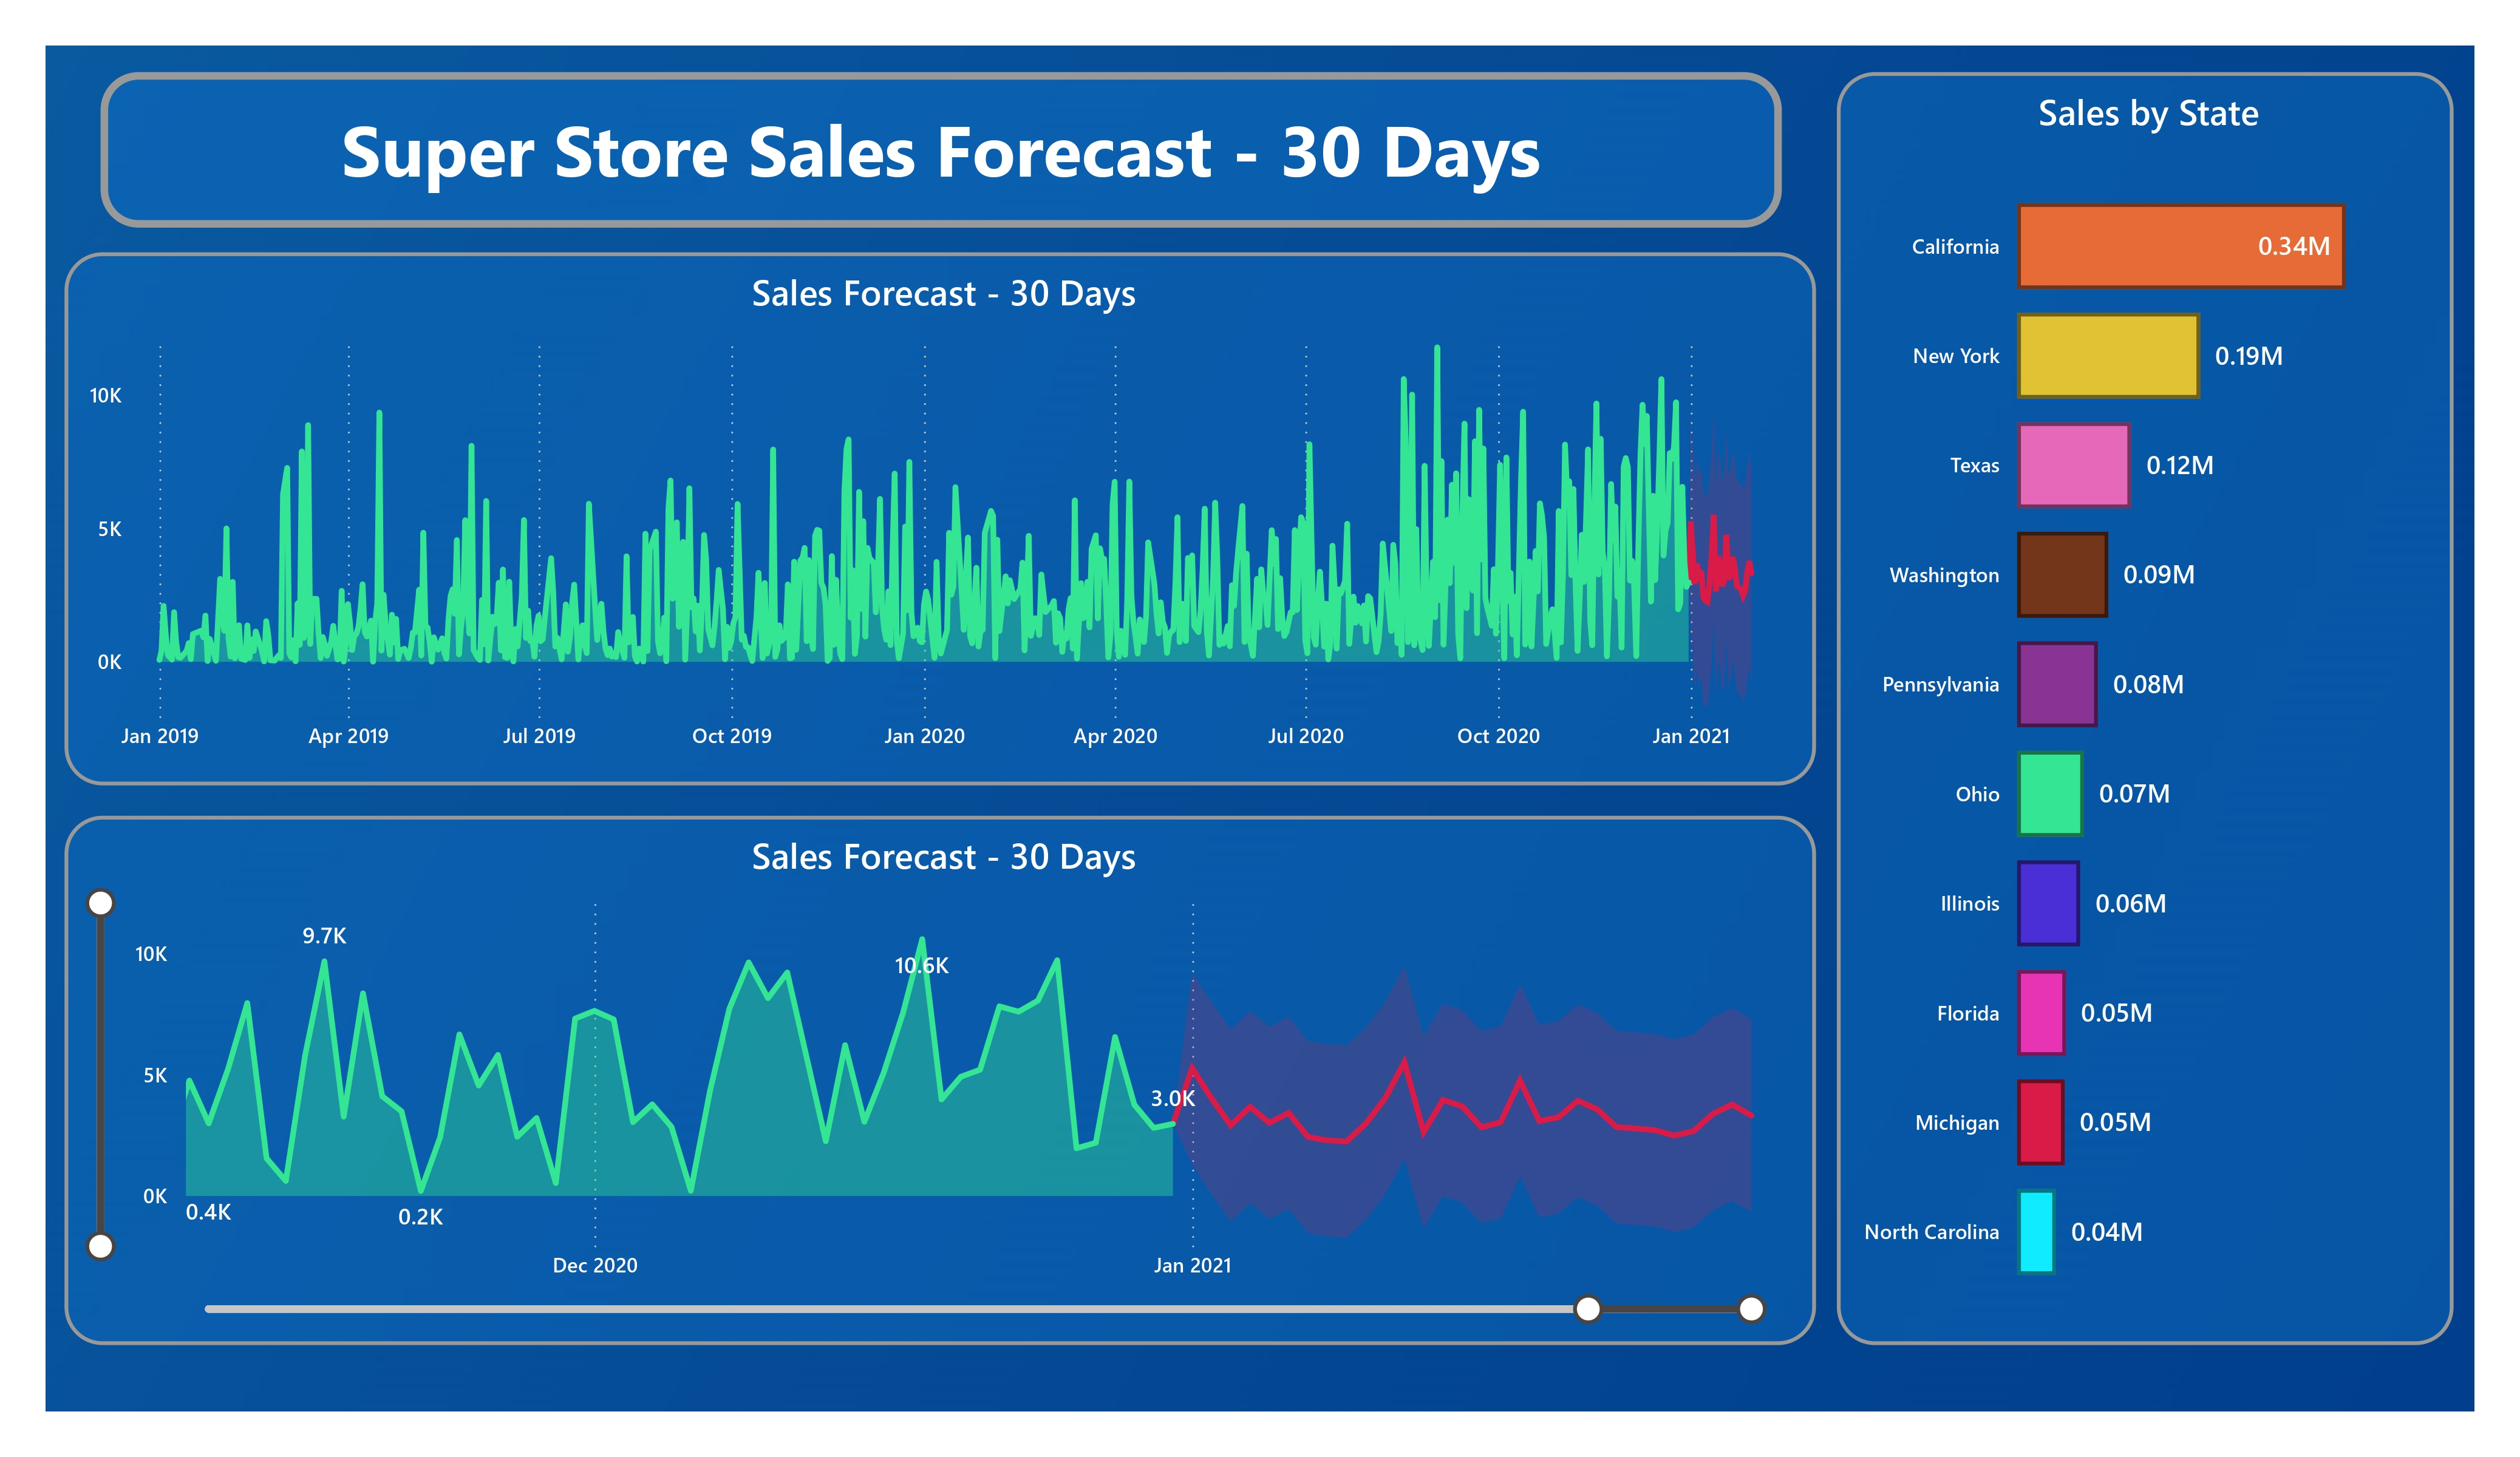

The page's visual inventory and layout, read from the dashboard file:
{"tool":"powerbi","page":{"name":"Forecast","canvas":[1280,720],"ordinal":1},"visuals":[{"type":"lineChart","title":"Sales Forecast - 30 Days","fields":{"Y":["Sum(Sales_Forecast.Total_Sales)"],"Category":["Sales_Forecast.Order Date"]},"box":[9.6,108.7,923.5,280.8],"z":0},{"type":"textbox","box":[28.9,13.8,886.4,82.6],"z":1000},{"type":"barChart","title":"Sales by State","fields":{"Y":["Sum(SuperStore_Sales_Dataset.Sales)"],"Category":["SuperStore_Sales_Dataset.State"]},"box":[944.2,13.8,324.8,671.7],"z":2000},{"type":"lineChart","title":"Sales Forecast - 30 Days","fields":{"Y":["Sum(Sales_Forecast.Total_Sales)"],"Category":["Sales_Forecast.Order Date"]},"box":[9.6,406,923.5,279.4],"z":3000}]}

Visuals, with their boxes in screenshot pixels (x1, y1, x2, y2):
"Sales Forecast - 30 Days" lineChart: pyautogui.locateOnScreen(26, 224, 1818, 769)
textbox: pyautogui.locateOnScreen(63, 40, 1783, 200)
"Sales by State" barChart: pyautogui.locateOnScreen(1840, 40, 2470, 1343)
"Sales Forecast - 30 Days" lineChart: pyautogui.locateOnScreen(26, 801, 1818, 1343)
